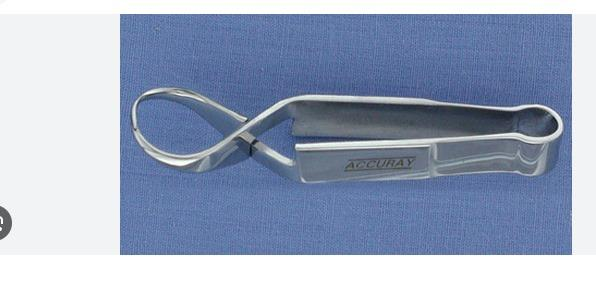Doyen Cross Action Towel Clamp: (127, 78, 560, 186)
